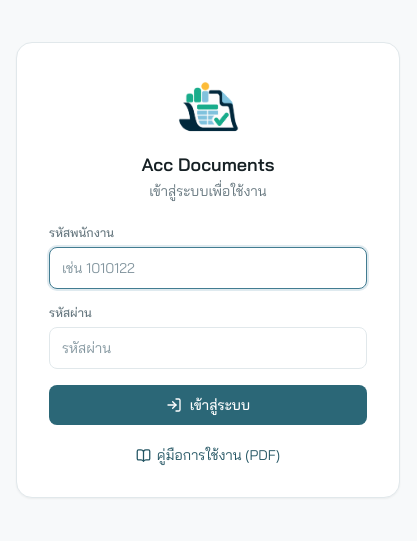
Test case: LoginPage › แสดง error เมื่อล็อกอินล้มเหลว
Click the button "เข้าสู่ระบบ" at (208, 405), box left=49, top=385, right=367, bottom=425
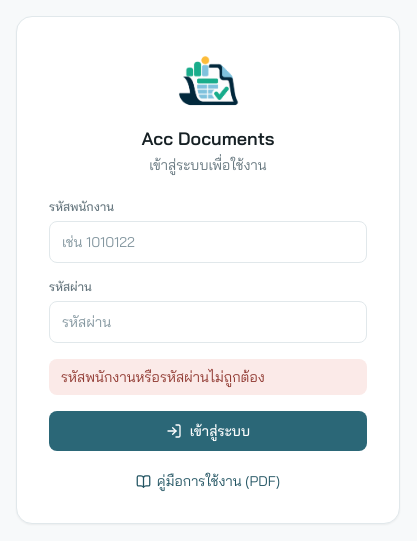
expect the text "รหัสพนักงานหรือรหัสผ่านไม่ถูกต้อง" is shown: met, box left=49, top=359, right=367, bottom=395
